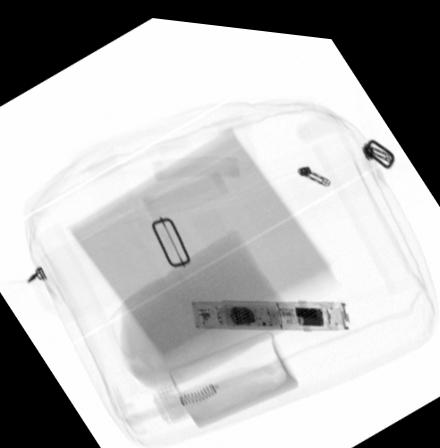Baton: (187, 292, 353, 323)
